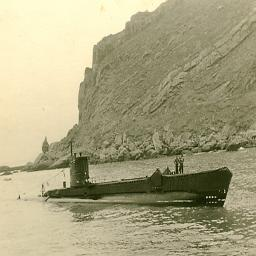submarine: (42, 158, 234, 207)
